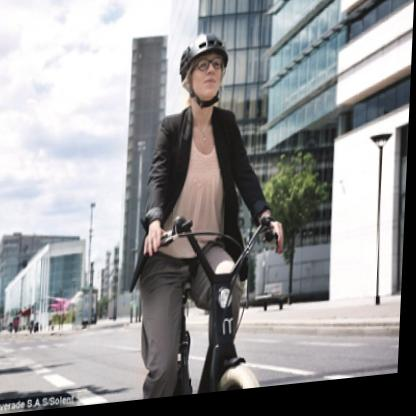With Helmet: (171, 28, 242, 116)
